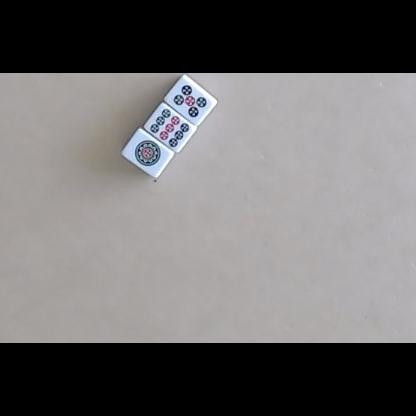1p: (135, 140, 161, 167)
5p: (173, 84, 208, 118)
9p: (149, 108, 190, 149)
